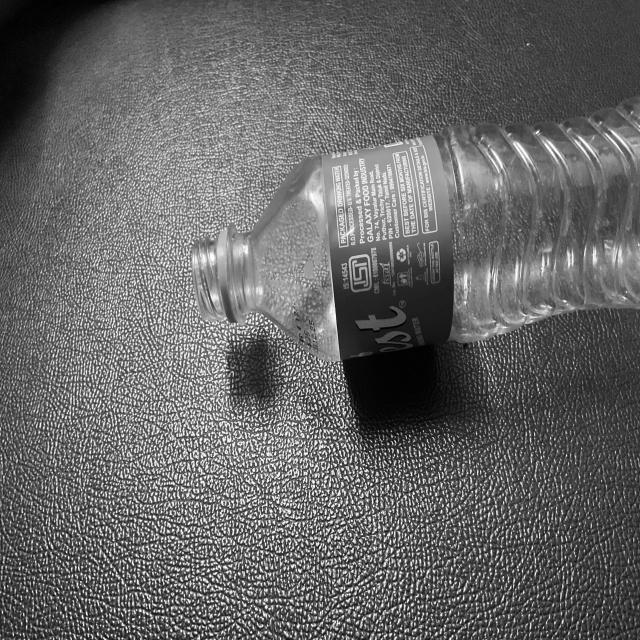open-cap: (186, 225, 233, 328)
